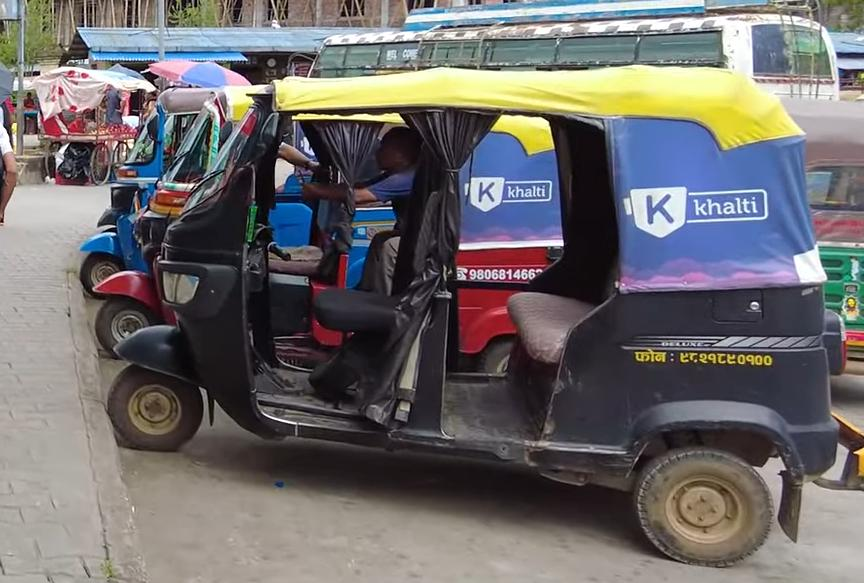auto_rickshaw: (96, 59, 838, 572)
